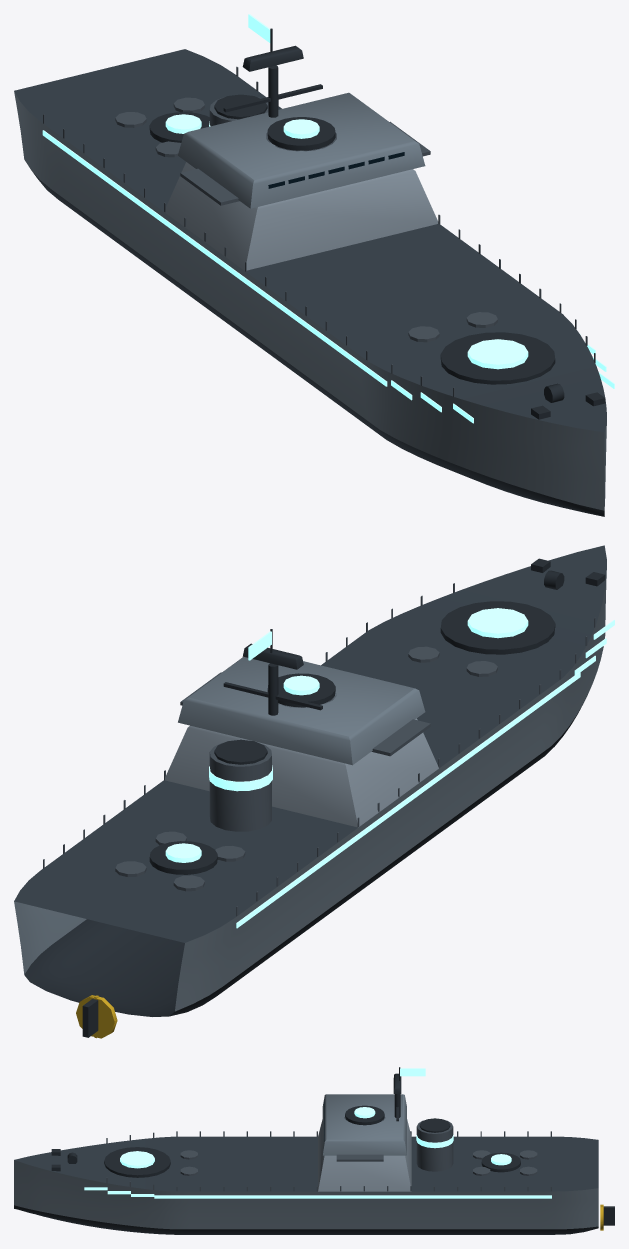
Rendered from arena_hull_small.glb.
3 renders of one model, top to bottom at view 1: azimuth 30°, elevation 25°; view 2: azimuth 150°, elevation 25°; view 3: azimuth 270°, elevation 25°, orthographic. The views are drawn at different scales.
Parts seen in each view (by area): view 1: deck, hull, bridge, bridge_top, hull_under, slot_ring_0, team_stripe, hatches, slot_pad_0, slot_ring_2, bridge_wing, radar_plate (+3 smaller); view 2: deck, hull, bridge_top, hull_under, bridge, funnel_1, slot_ring_0, team_stripe, hatches, slot_pad_0, slot_ring_1, funnel_grill_1 (+6 smaller); view 3: hull, deck, bridge_top, hull_under, bridge, team_stripe, funnel_1, slot_ring_0, hatches, slot_pad_0, slot_ring_2, slot_ring_1 (+3 smaller).
Part boxes in pixels (left/top/right/bottom): deck: left=14, top=49, right=606, bottom=432; hull: left=14, top=91, right=606, bottom=510; bridge: left=164, top=162, right=438, bottom=270; bridge_top: left=178, top=92, right=425, bottom=208; hull_under: left=31, top=170, right=604, bottom=516; slot_ring_0: left=440, top=332, right=555, bottom=384; team_stripe: left=42, top=130, right=614, bottom=423; hatches: left=115, top=97, right=497, bottom=342; slot_pad_0: left=467, top=339, right=528, bottom=369; slot_ring_2: left=267, top=117, right=335, bottom=150; bridge_wing: left=180, top=121, right=430, bottom=205; radar_plate: left=242, top=45, right=303, bottom=71; deck: left=14, top=545, right=606, bottom=942; hull: left=14, top=576, right=606, bottom=1011; bridge_top: left=178, top=656, right=425, bottom=765; hull_under: left=24, top=705, right=582, bottom=1016; bridge: left=165, top=718, right=438, bottom=827; funnel_1: left=209, top=742, right=271, bottom=831; slot_ring_0: left=440, top=601, right=555, bottom=654; team_stripe: left=236, top=585, right=614, bottom=928; hatches: left=115, top=646, right=497, bottom=891; slot_pad_0: left=467, top=608, right=528, bottom=638; slot_ring_1: left=149, top=841, right=217, bottom=874; funnel_grill_1: left=214, top=739, right=267, bottom=764; hull: left=14, top=1160, right=598, bottom=1229; deck: left=14, top=1136, right=598, bottom=1191; bridge_top: left=322, top=1094, right=406, bottom=1155; hull_under: left=14, top=1205, right=598, bottom=1234; bridge: left=318, top=1119, right=411, bottom=1191; team_stripe: left=84, top=1187, right=551, bottom=1198; funnel_1: left=416, top=1120, right=453, bottom=1171; slot_ring_0: left=104, top=1147, right=170, bottom=1177; hatches: left=180, top=1150, right=537, bottom=1175; slot_pad_0: left=120, top=1151, right=154, bottom=1168; slot_ring_2: left=345, top=1105, right=384, bottom=1125; slot_ring_1: left=481, top=1152, right=520, bottom=1172.
Size of the model in its own units: 21.6 by 27.5 by 92.5.
